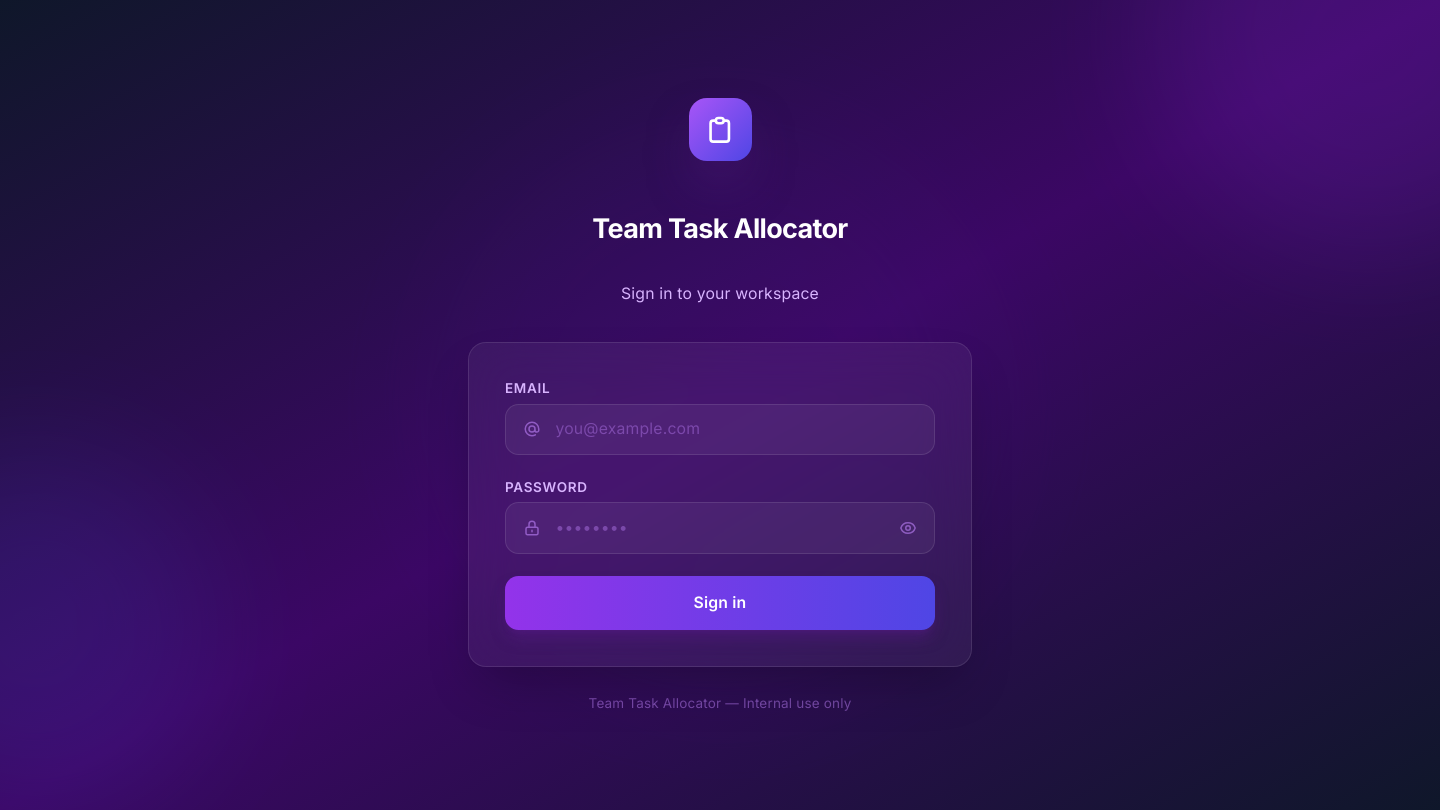
it: Login — failed sign in › clears a previous error when the form is submitted again
Type "bob@example.com" into the field with placeholder "you@example.com". click: coordinates (720, 429)
box: top-left (505, 404), bottom-right (935, 455)
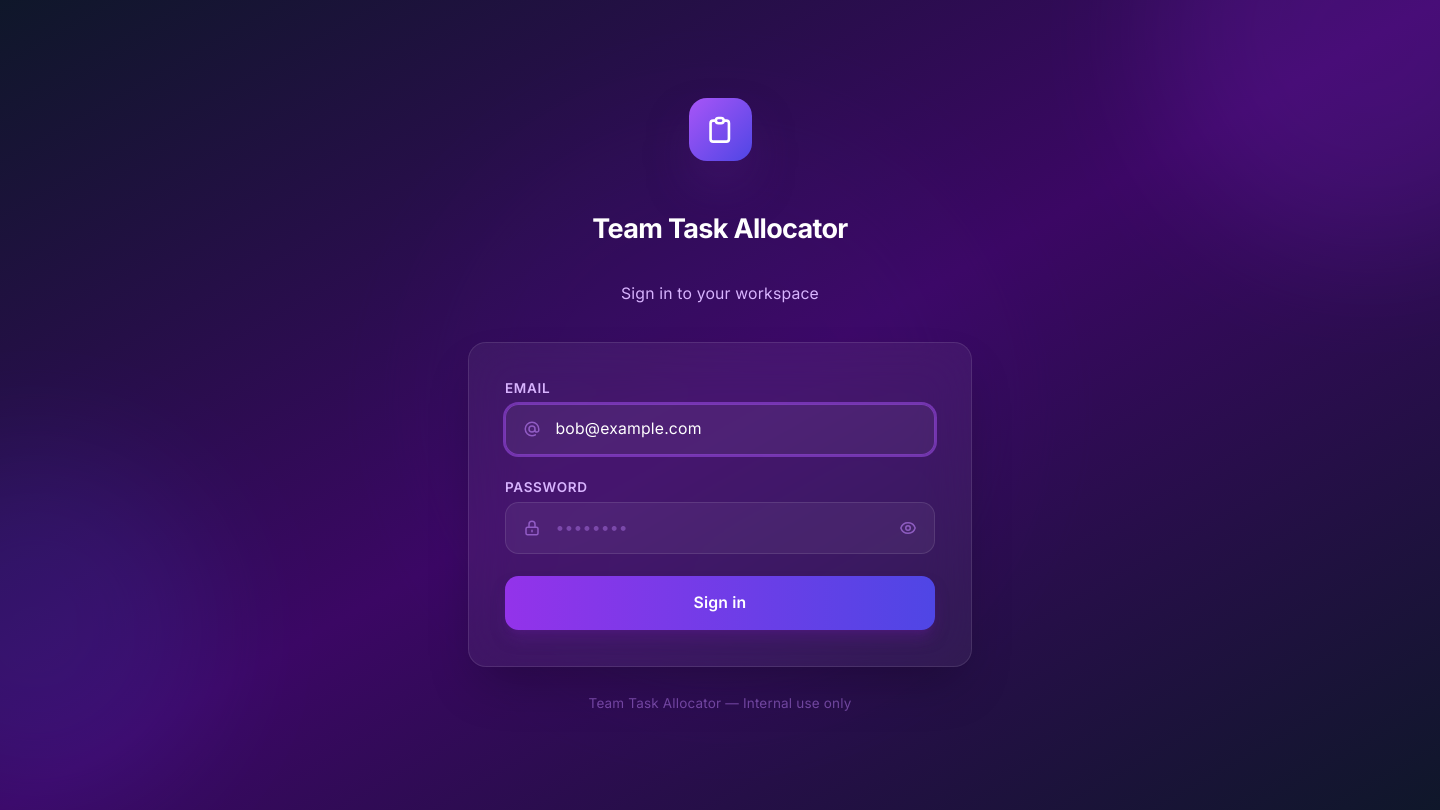
Type "secret" into the password field with placeholder "••••••••". click: coordinates (720, 528)
box: top-left (505, 502), bottom-right (935, 554)
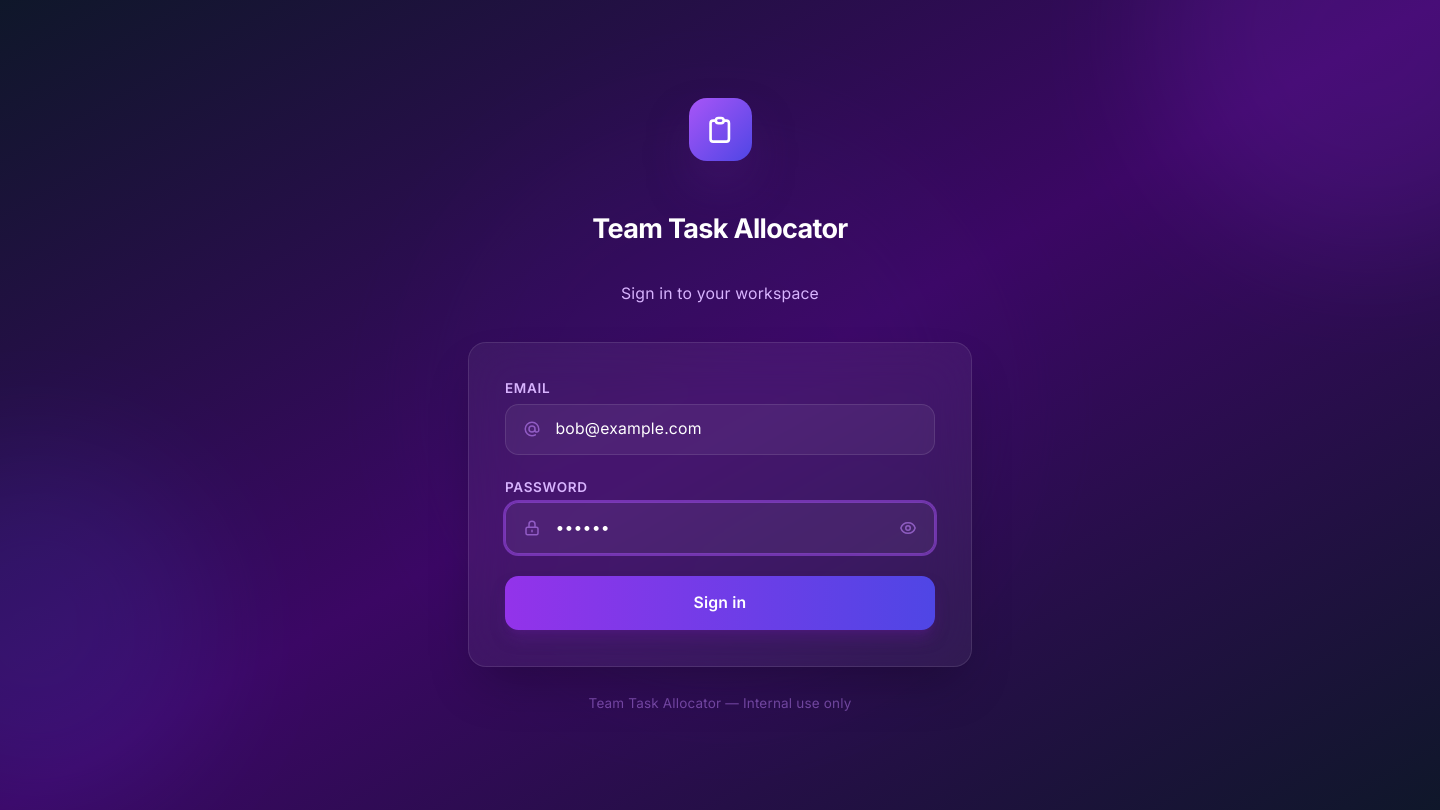
Note: First submit — should show error
Click the button "Sign in". click: coordinates (720, 603)
box: top-left (505, 576), bottom-right (935, 630)
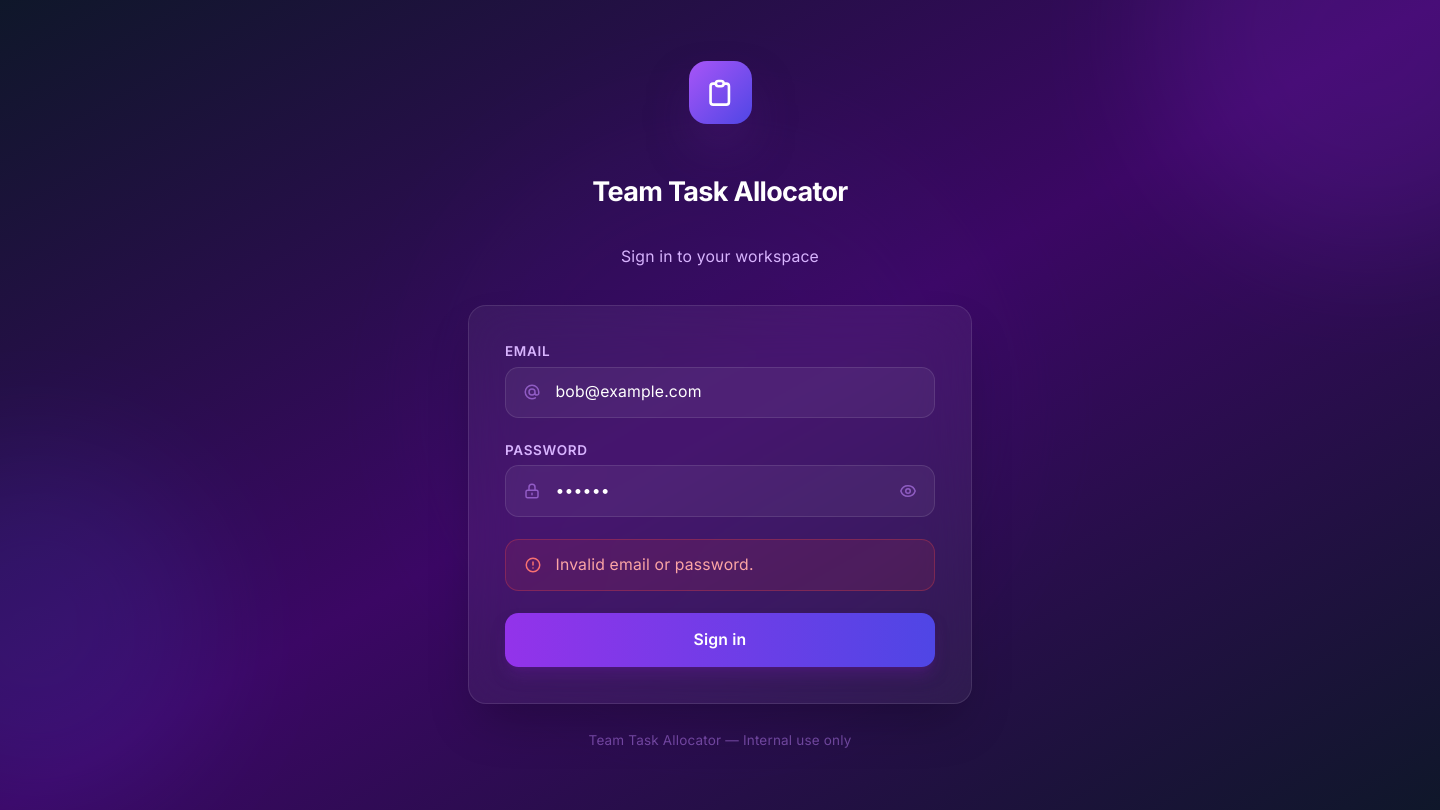
expect the text "Invalid email or password." is shown: met, box top-left (556, 554), bottom-right (754, 576)
Note: Second submit — error should be cleared before the call resolves
Click the button "Sign in". click: coordinates (720, 640)
box: top-left (505, 613), bottom-right (935, 667)
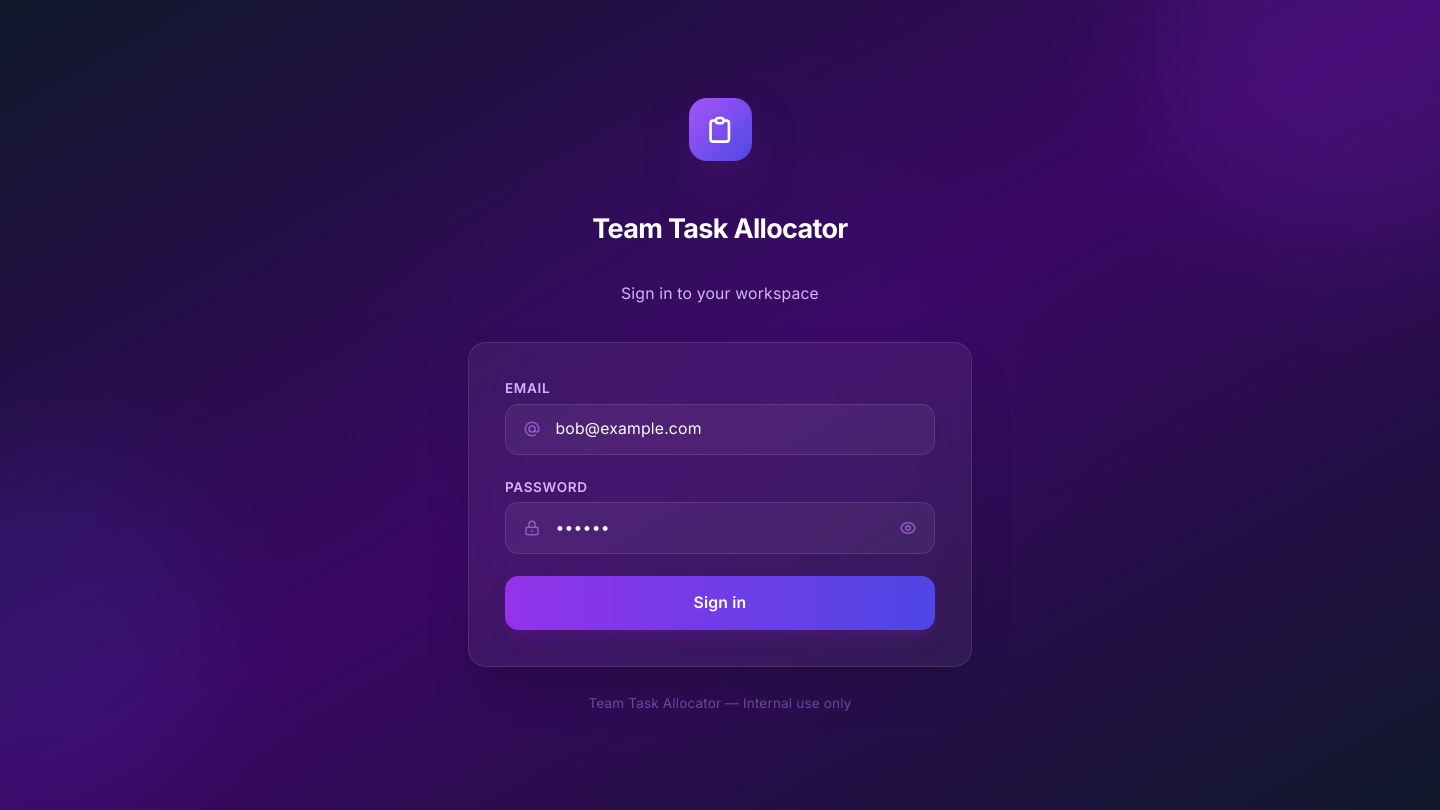
expect the text "Invalid email or password." is gone: met
